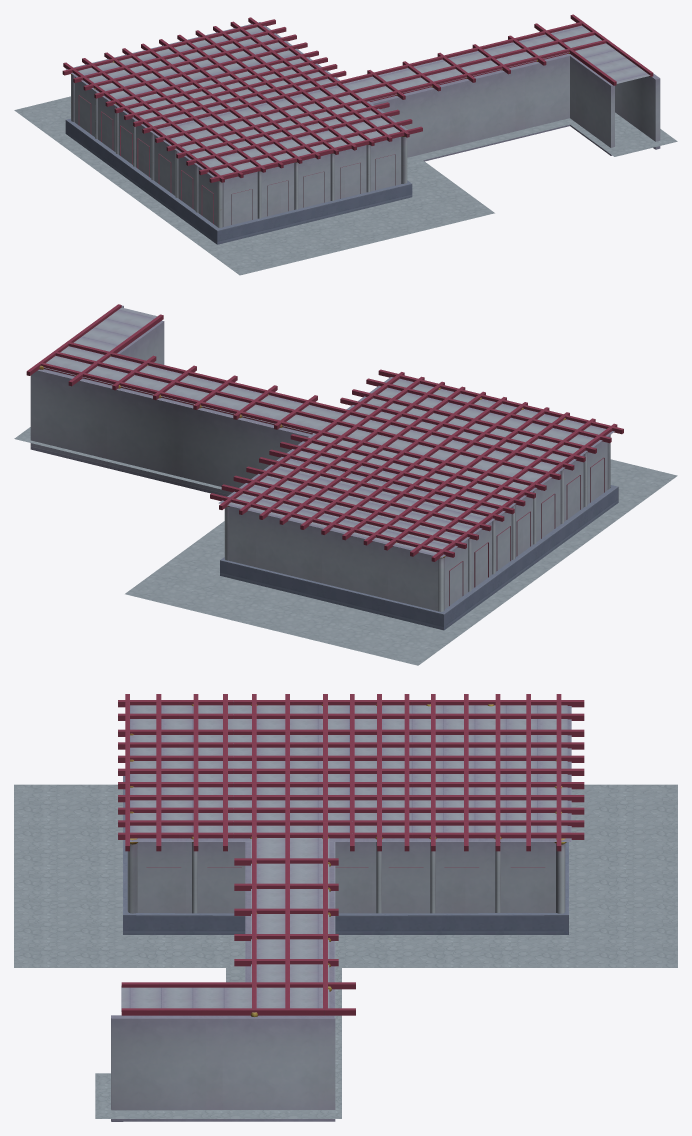
The model's file is stage.glb.
The picture shows the model from 3 angles, top to bottom: view 1: azimuth 30°, elevation 25°; view 2: azimuth 150°, elevation 25°; view 3: azimuth 270°, elevation 25°; orthographic projection. The views are drawn at different scales.
Parts seen in each view (by area): view 1: KORE_export_5_walls_1_0_0, KORE_export_5_prop2_1_0_0, KORE_export_46_nverguoyuchi_601.0_0_0; view 2: KORE_export_5_walls_1_0_0, KORE_export_5_prop2_1_0_0, KORE_export_46_nverguoyuchi_601.0_0_0; view 3: KORE_export_5_walls_1_0_0, KORE_export_5_prop2_1_0_0, KORE_export_46_nverguoyuchi_601.0_0_0.
Part boxes in pixels (x1,y1,x2,y2): KORE_export_5_walls_1_0_0: (66, 22, 660, 226); KORE_export_5_prop2_1_0_0: (62, 14, 653, 244); KORE_export_46_nverguoyuchi_601.0_0_0: (14, 96, 677, 275); KORE_export_5_walls_1_0_0: (30, 305, 614, 611); KORE_export_5_prop2_1_0_0: (26, 304, 623, 630); KORE_export_46_nverguoyuchi_601.0_0_0: (14, 427, 677, 665); KORE_export_5_walls_1_0_0: (111, 705, 571, 1121); KORE_export_5_prop2_1_0_0: (118, 694, 584, 1016); KORE_export_46_nverguoyuchi_601.0_0_0: (14, 784, 677, 1118).
Bounding box in the file's own units: 18 × 2.74 × 15.12.
4 materials, 4 textured.
